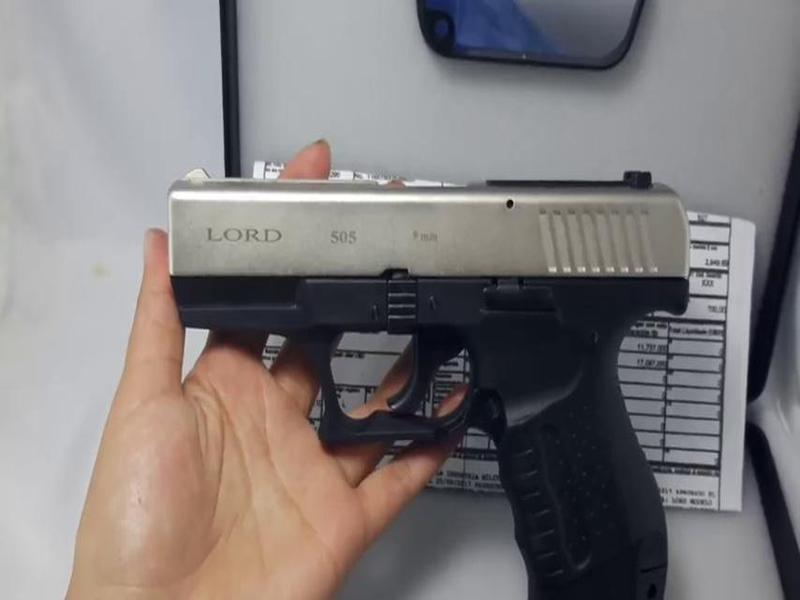Pistola: (120, 122, 707, 593)
